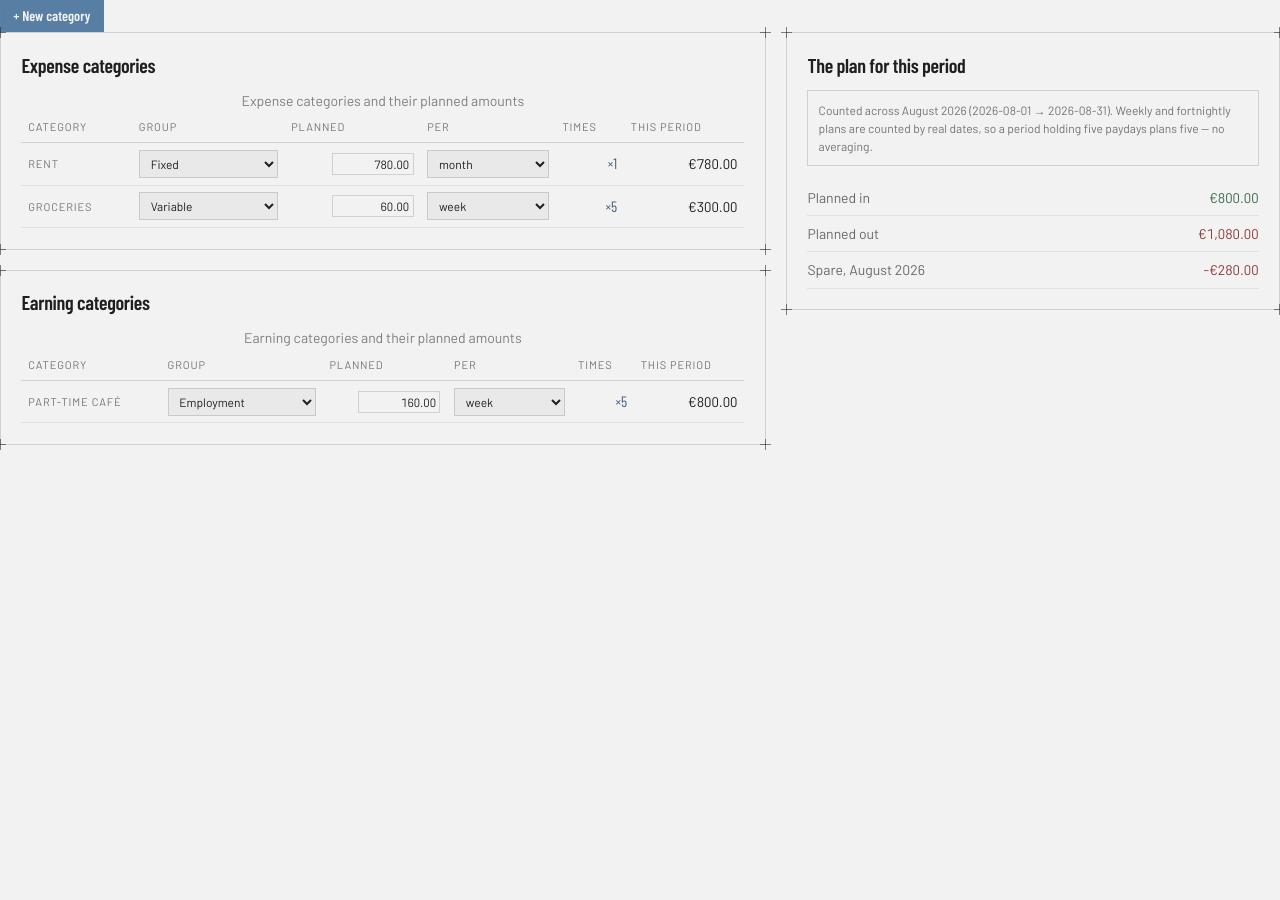
Test: CategoriesPage - creating a category (BR-14) › names every field that is wrong, not just the first
Click the button "+ New category". click: (52, 16)
box: [0,0,104,32]
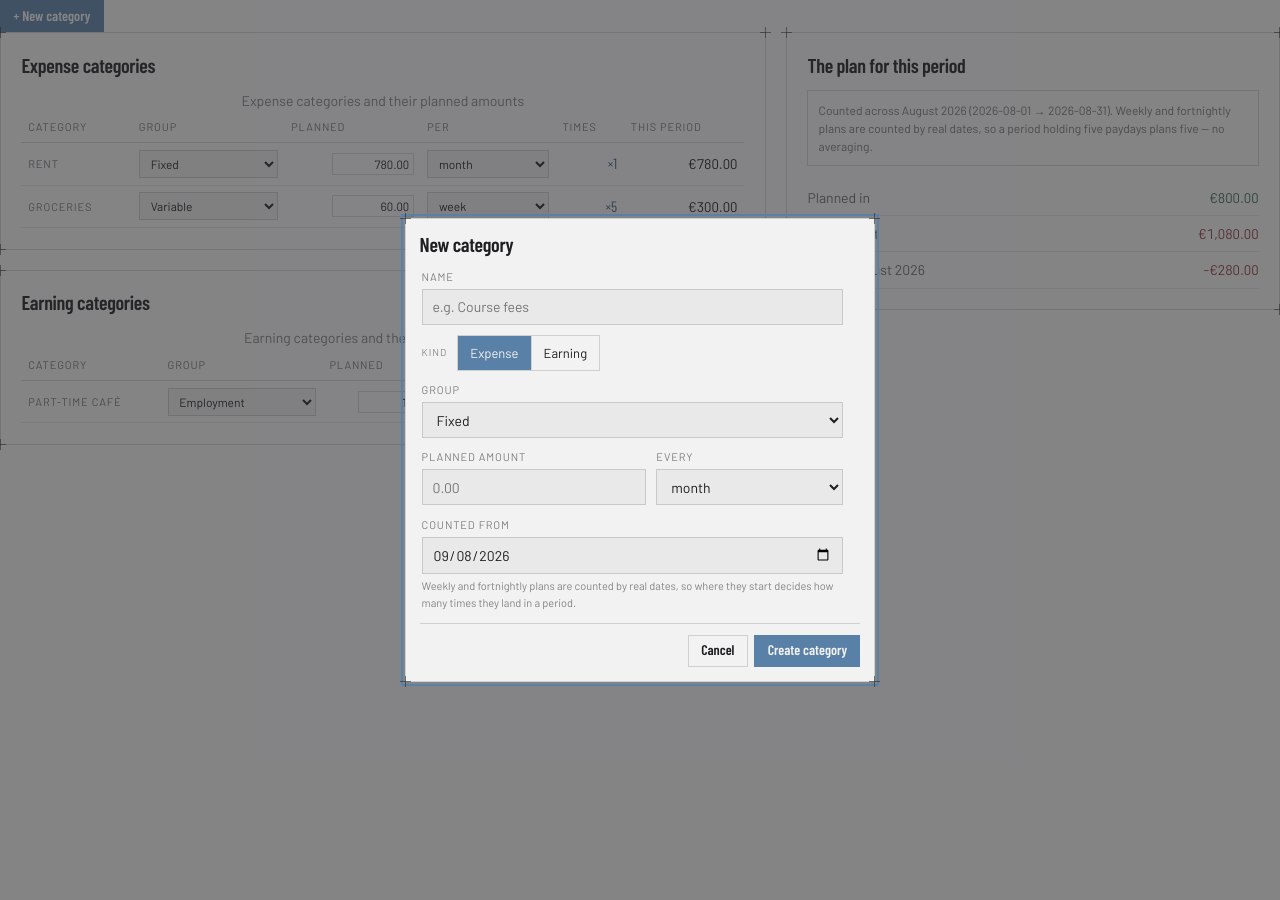
Click the button "Create category". click: (807, 651)
box: [754,635,860,667]
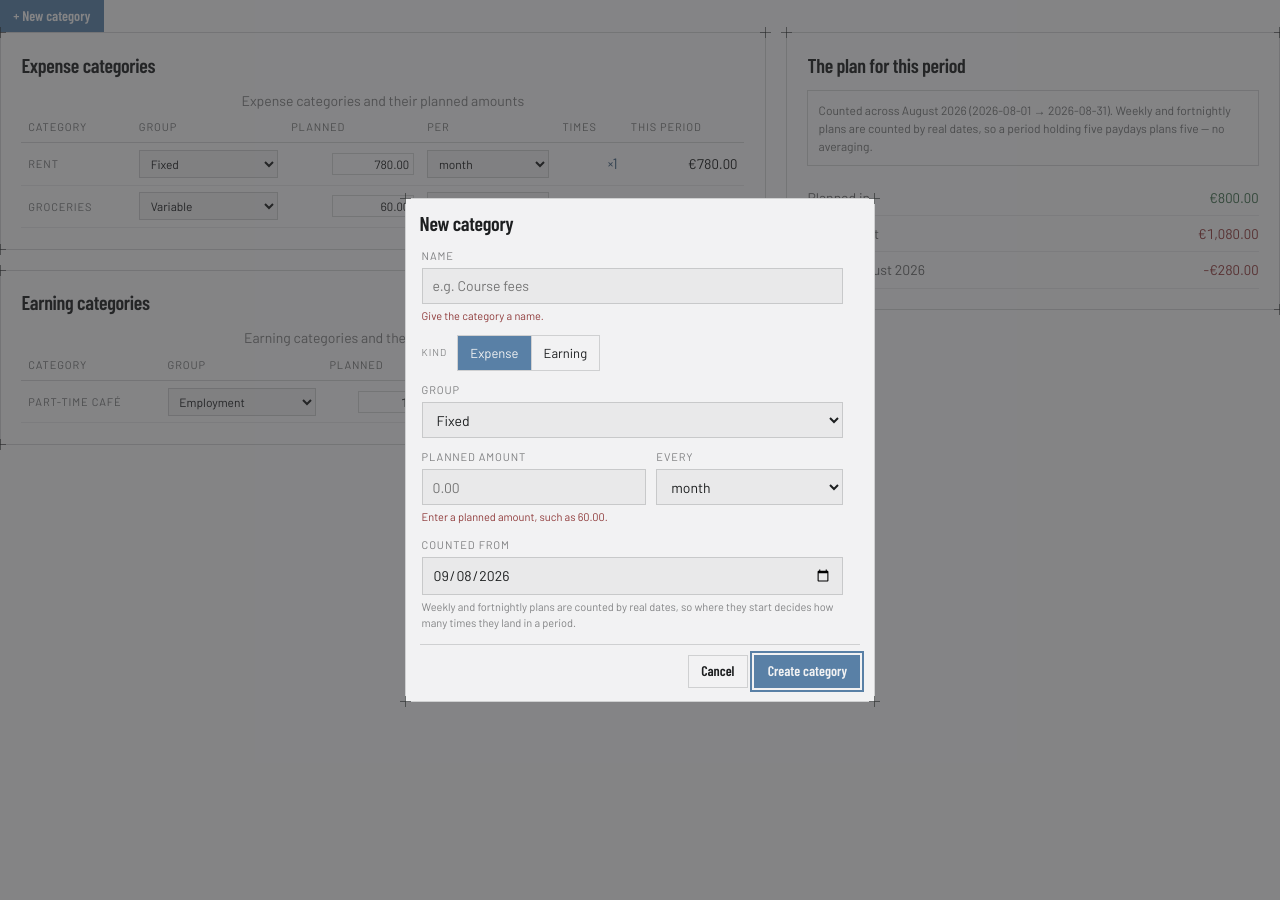
Now the messages read "Give the category a name.", "Enter a planned amount, such as 60.00.", in this order, box [422,309,544,322]; [422,510,608,523]
